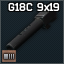Glock 18C 9x19 barrel with compensator: (0, 0, 64, 64)
